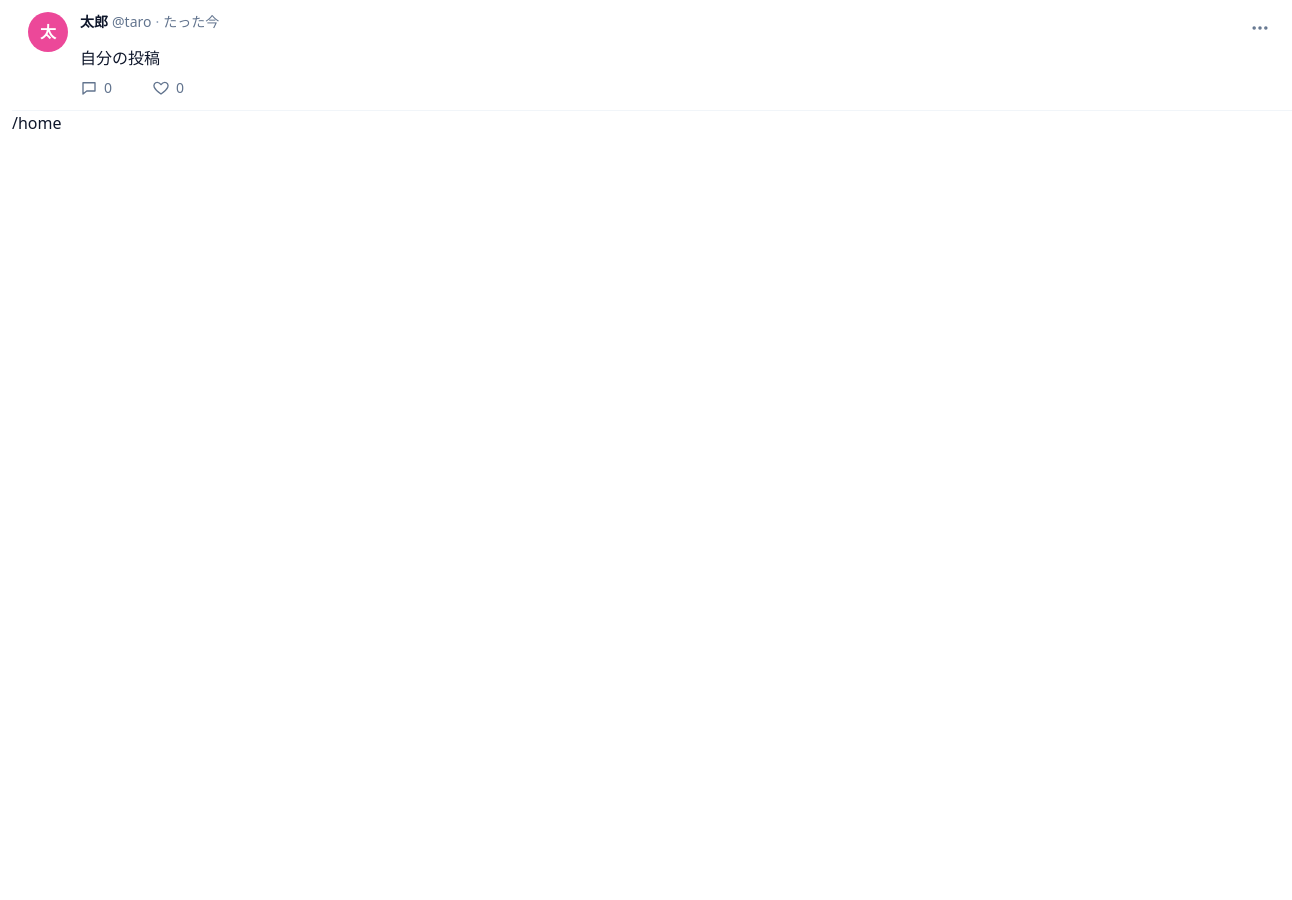
Test: PostCard › 自分の投稿はメニューから削除でき、カードのクリックにはならない
Click the button named "投稿のメニュー": click(1260, 28) [1244,12,1276,44]
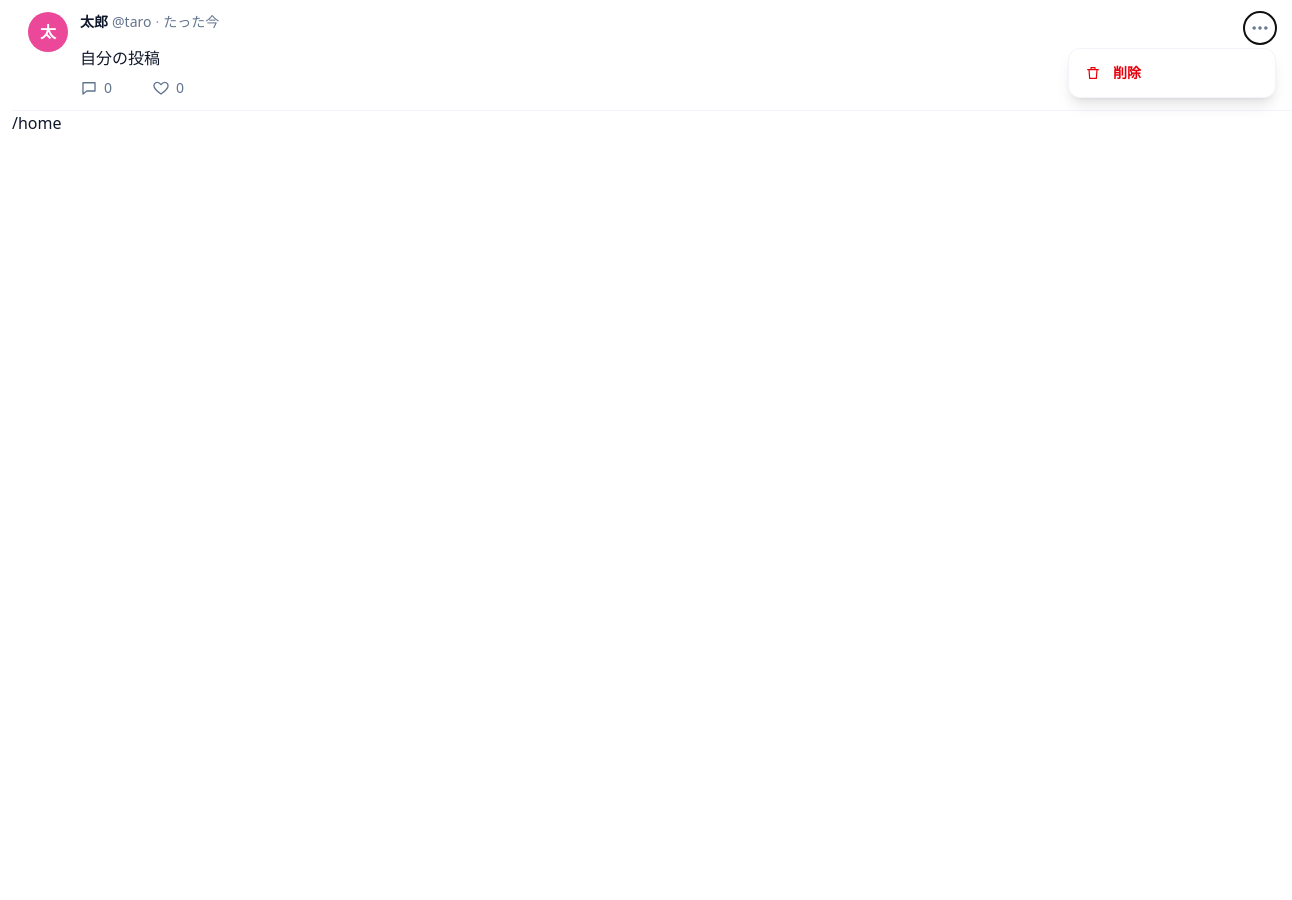
Click the button "削除": click(1172, 73) [1069,53,1275,93]
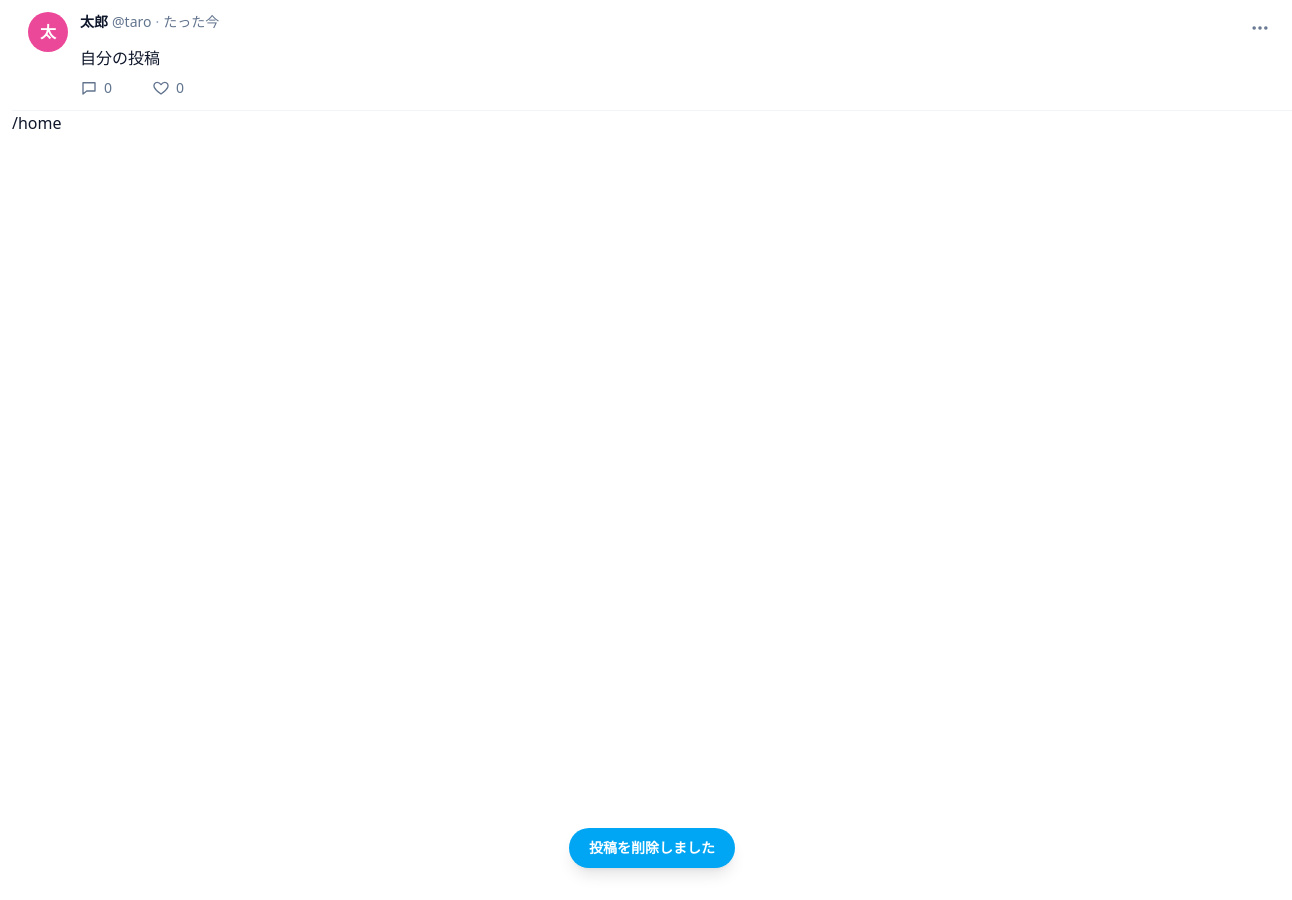
Expected: the text with test id "location" reads "/home", [12,112,62,134]
Expected: the message reads "投稿を削除しました", [589,838,715,857]
